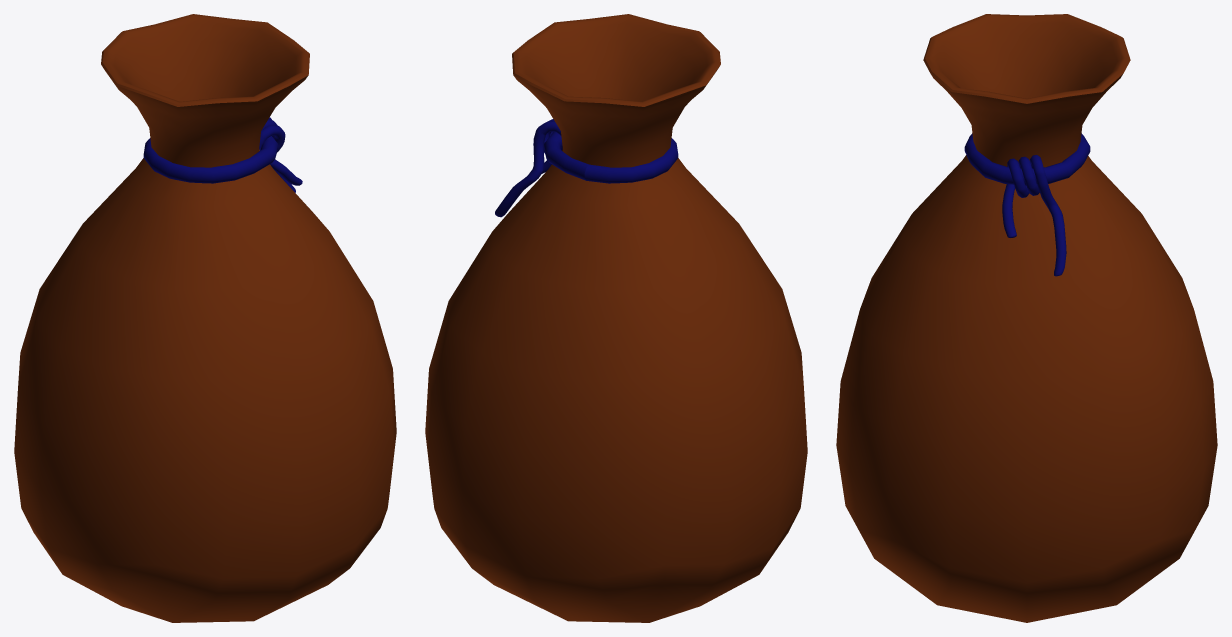
Rendered from MESH_Purse.fbx.
The picture shows the model from 3 angles, left to right: view 1: azimuth 30°, elevation 25°; view 2: azimuth 150°, elevation 25°; view 3: azimuth 270°, elevation 25°; orthographic projection.
Visible parts, largest first — view 1: MESH_Purse; view 2: MESH_Purse; view 3: MESH_Purse.
Boxes of the visible parts, box(x1,y1,x2,y2) form: MESH_Purse: box(14, 14, 396, 622); MESH_Purse: box(425, 14, 807, 622); MESH_Purse: box(836, 14, 1217, 622).
Bounding box in the file's own units: 0.1187 × 0.187 × 0.1187.
